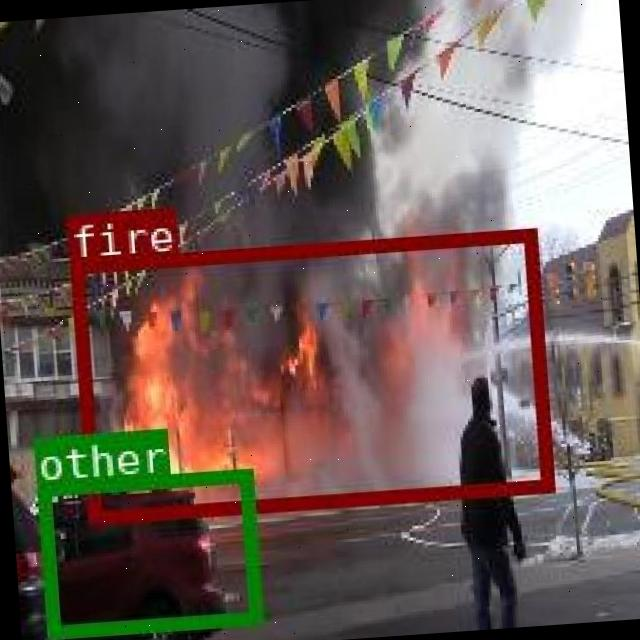fire: (67, 227, 550, 522)
